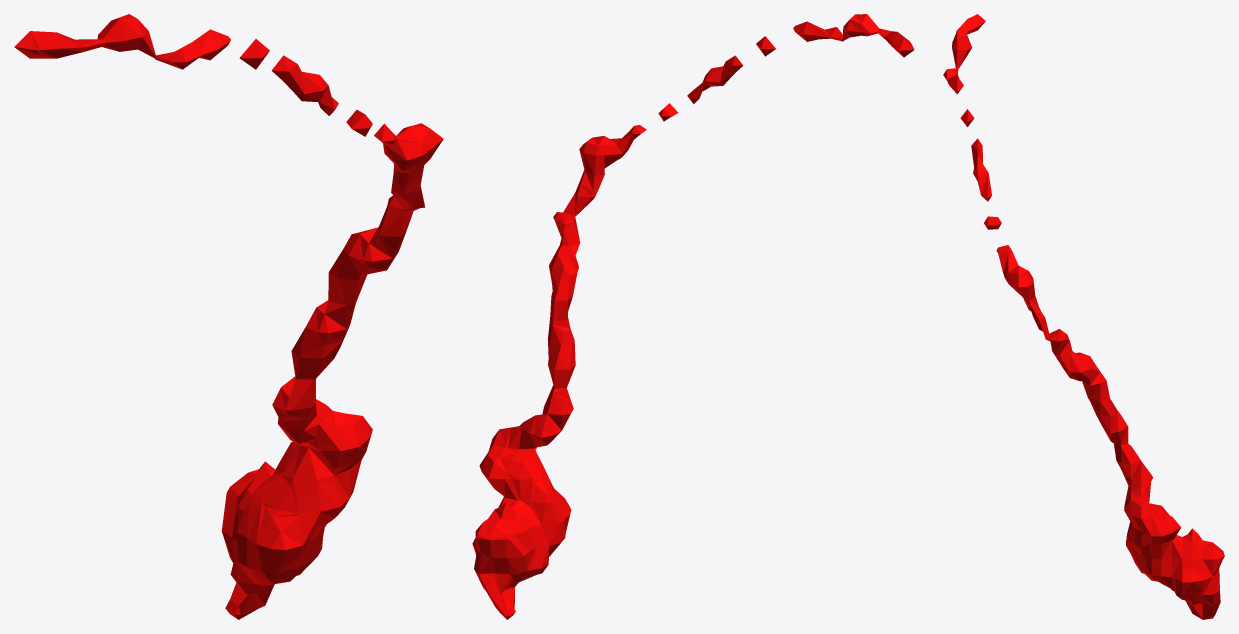
The model's file is hflK_coarse.dae.
3 views of the same model, side by side, from view 1: azimuth 30°, elevation 25°; view 2: azimuth 150°, elevation 25°; view 3: azimuth 270°, elevation 25° (orthographic). The views are drawn at different scales.
Parts seen in each view (by area): view 1: hflK; view 2: hflK; view 3: hflK.
Part boxes in pixels (box(x1,y1,x2,y2)): hflK: box(14, 14, 443, 619); hflK: box(472, 14, 914, 619); hflK: box(943, 14, 1224, 619).
Size of the model in its own units: 190 by 303 by 157.
